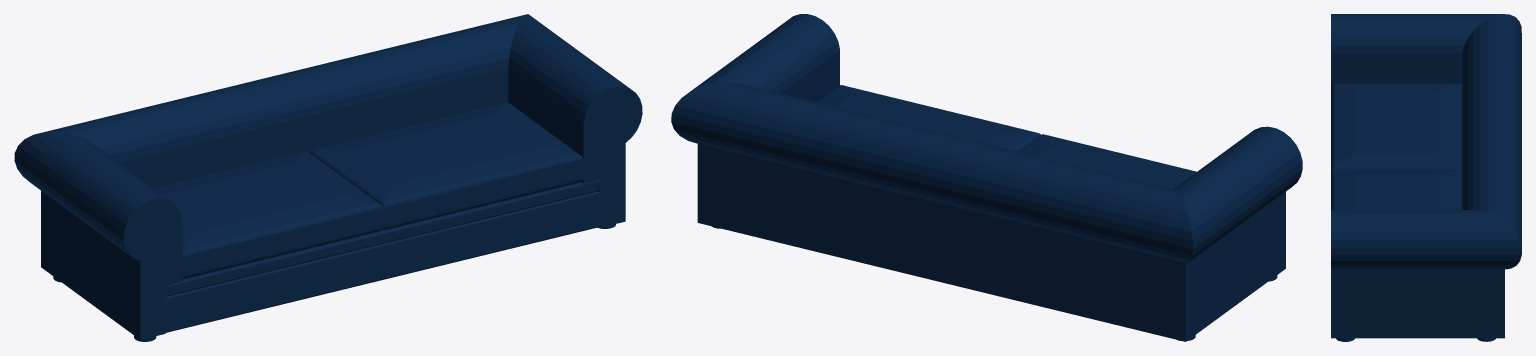
File: Bank 2.fbx
The picture shows the model from 3 angles, left to right: view 1: azimuth 30°, elevation 25°; view 2: azimuth 150°, elevation 25°; view 3: azimuth 270°, elevation 25°; orthographic projection. The views are drawn at different scales.
Parts seen in each view (by area): view 1: Model; view 2: Model; view 3: Model.
Part boxes in pixels (x1=…): Model: x1=14, y1=14, x2=642, y2=341; Model: x1=671, y1=14, x2=1302, y2=341; Model: x1=1331, y1=14, x2=1521, y2=341.
Bounding box in the file's own units: 2564 × 675 × 935.
